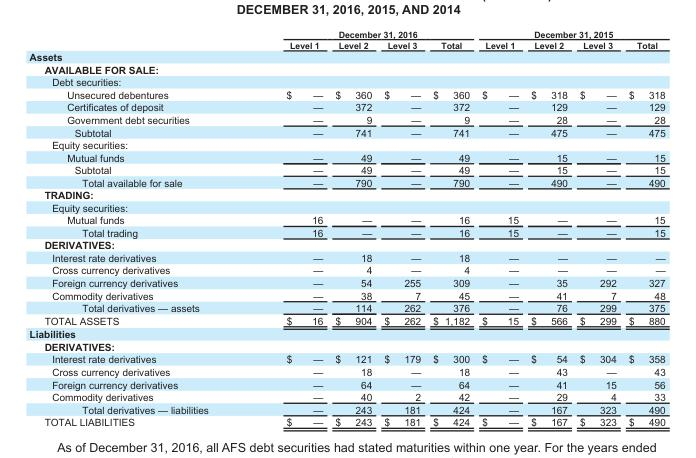table: (28, 28, 664, 427)
table column: (28, 28, 246, 427), (246, 28, 328, 427), (328, 28, 377, 427), (377, 28, 426, 427), (426, 28, 475, 427), (475, 28, 524, 427), (572, 28, 621, 427), (524, 28, 572, 427), (621, 28, 664, 427)
table column header: (28, 28, 664, 50)
table projected row header: (28, 50, 664, 63), (28, 75, 664, 88), (28, 188, 664, 201), (28, 238, 664, 251), (28, 327, 664, 340), (28, 63, 664, 75), (28, 138, 664, 150), (28, 201, 664, 213), (28, 340, 664, 352)
table row: (28, 313, 664, 327), (28, 50, 664, 63), (28, 75, 664, 88), (28, 100, 664, 113), (28, 125, 664, 138), (28, 150, 664, 163), (28, 175, 664, 188), (28, 188, 664, 201), (28, 213, 664, 226), (28, 238, 664, 251), (28, 263, 664, 276), (28, 288, 664, 301), (28, 327, 664, 340), (28, 352, 664, 365), (28, 377, 664, 390), (28, 402, 664, 415), (28, 63, 664, 75), (28, 88, 664, 100), (28, 113, 664, 125), (28, 138, 664, 150), (28, 163, 664, 175), (28, 201, 664, 213), (28, 226, 664, 238), (28, 251, 664, 263), (28, 276, 664, 288), (28, 301, 664, 313), (28, 340, 664, 352), (28, 365, 664, 377), (28, 390, 664, 402), (28, 415, 664, 427), (28, 28, 664, 39), (28, 39, 664, 50)
table spanning cell: (246, 28, 475, 39), (475, 28, 664, 39)
